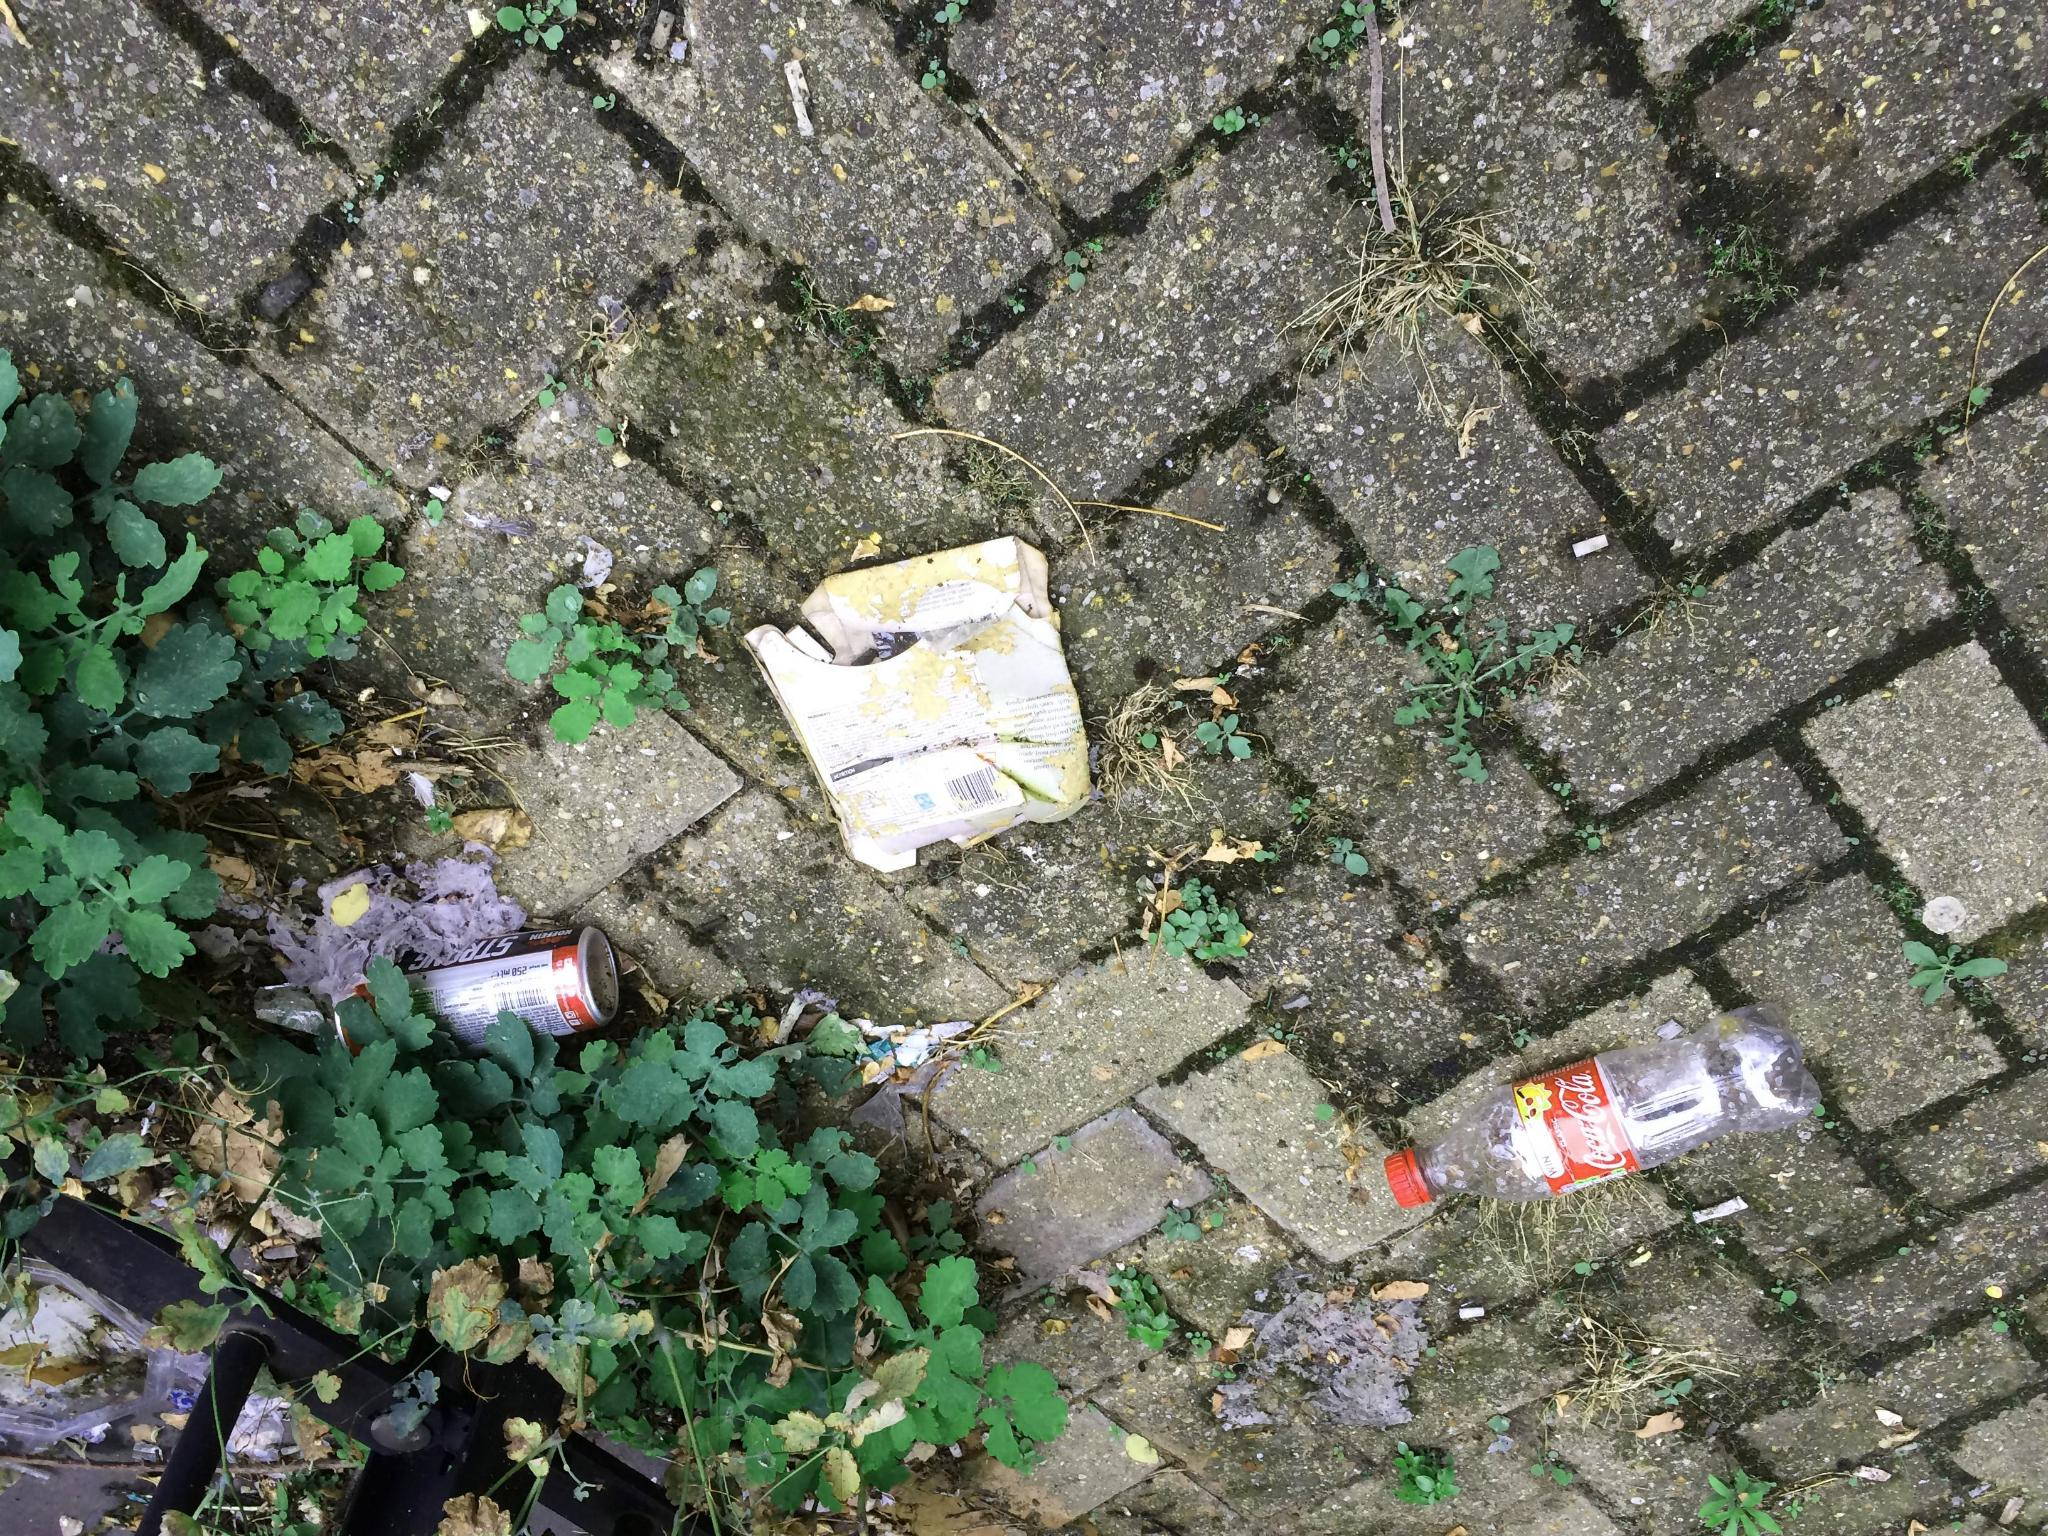Metal: (305, 916, 639, 1071)
Plastic: (1374, 991, 1830, 1220)
Trash: (718, 521, 1108, 871)
